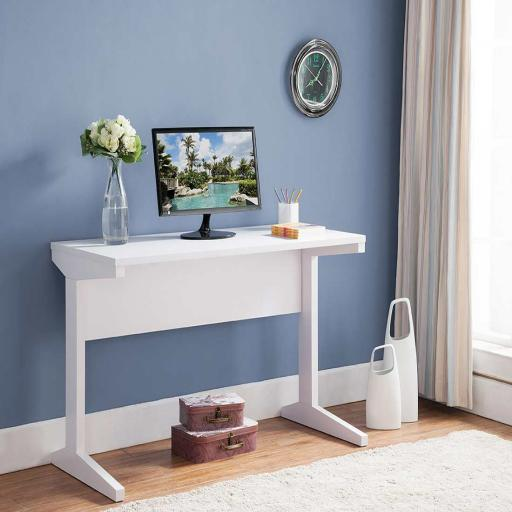desk: (50, 224, 368, 502)
wall: (0, 0, 404, 474)
